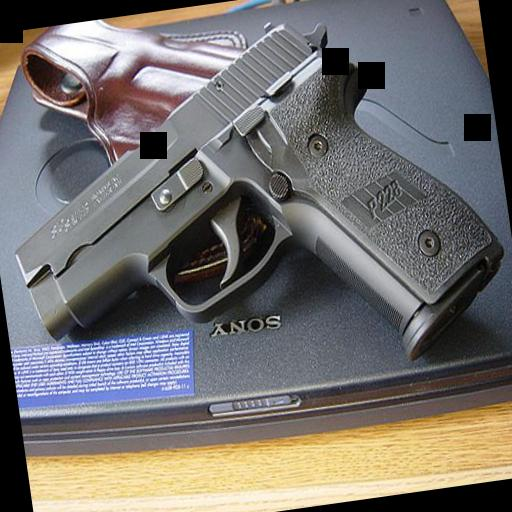Handgun: (0, 0, 512, 413)
